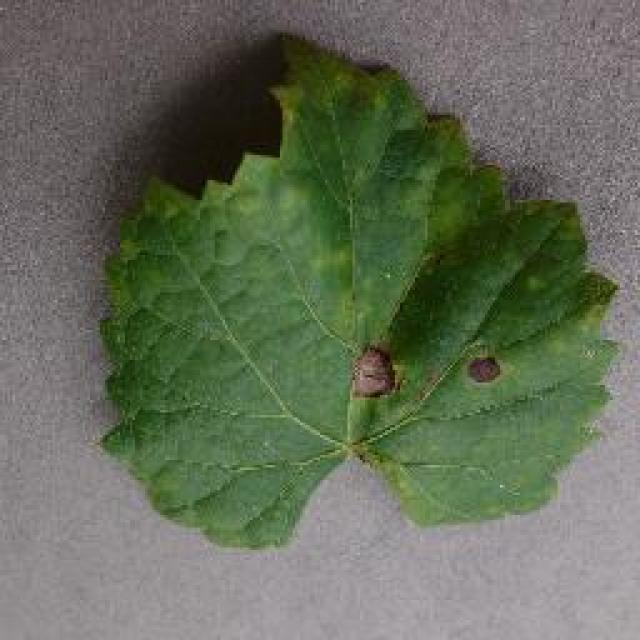Grape___Black_rot: (94, 29, 624, 553)
